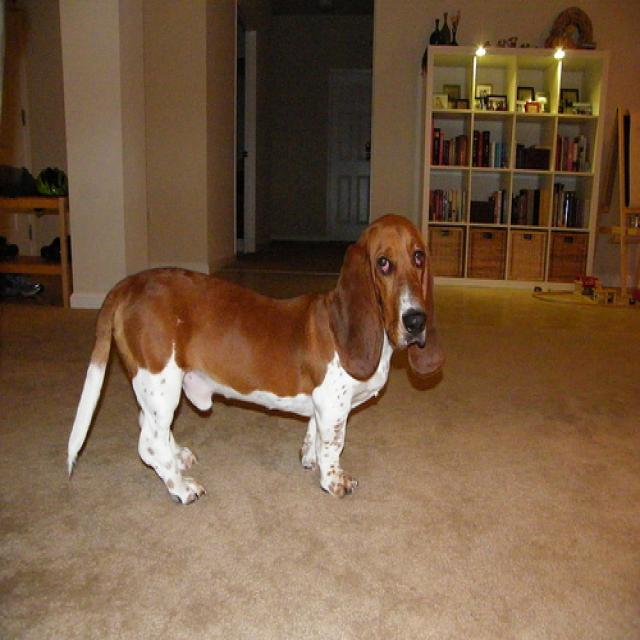dog-basset_hound: (56, 210, 447, 519)
